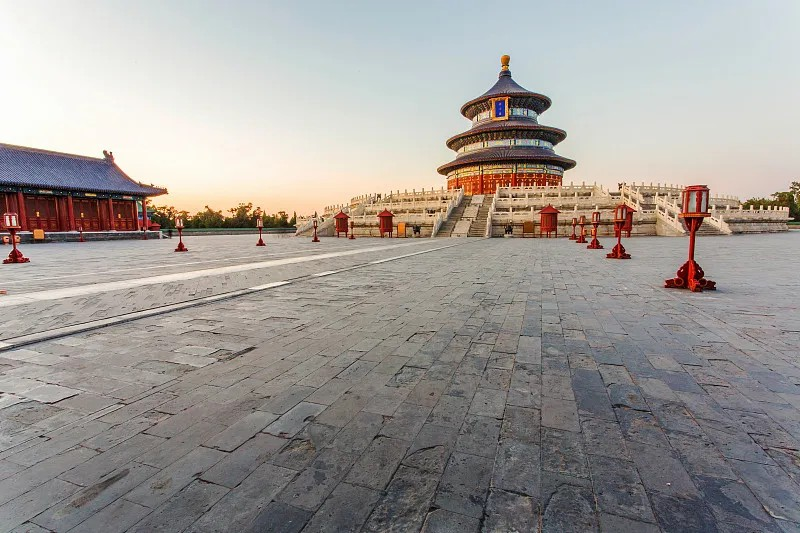Heaven: (437, 55, 577, 196)
